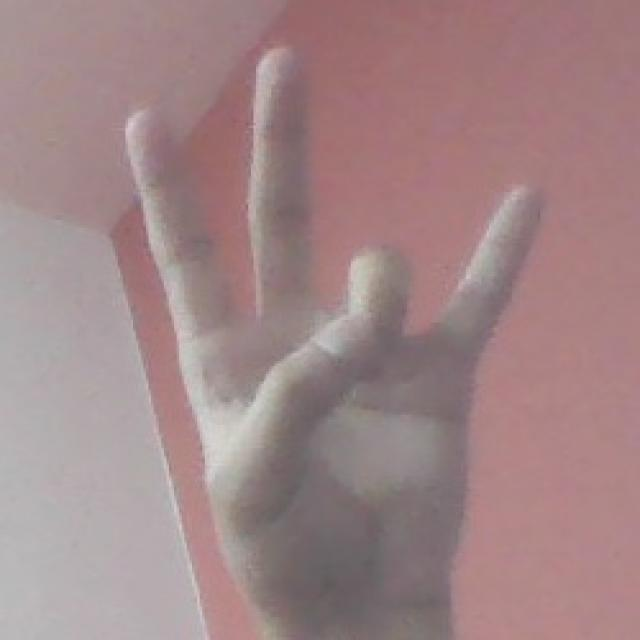Numeric-7: (123, 44, 547, 622)
